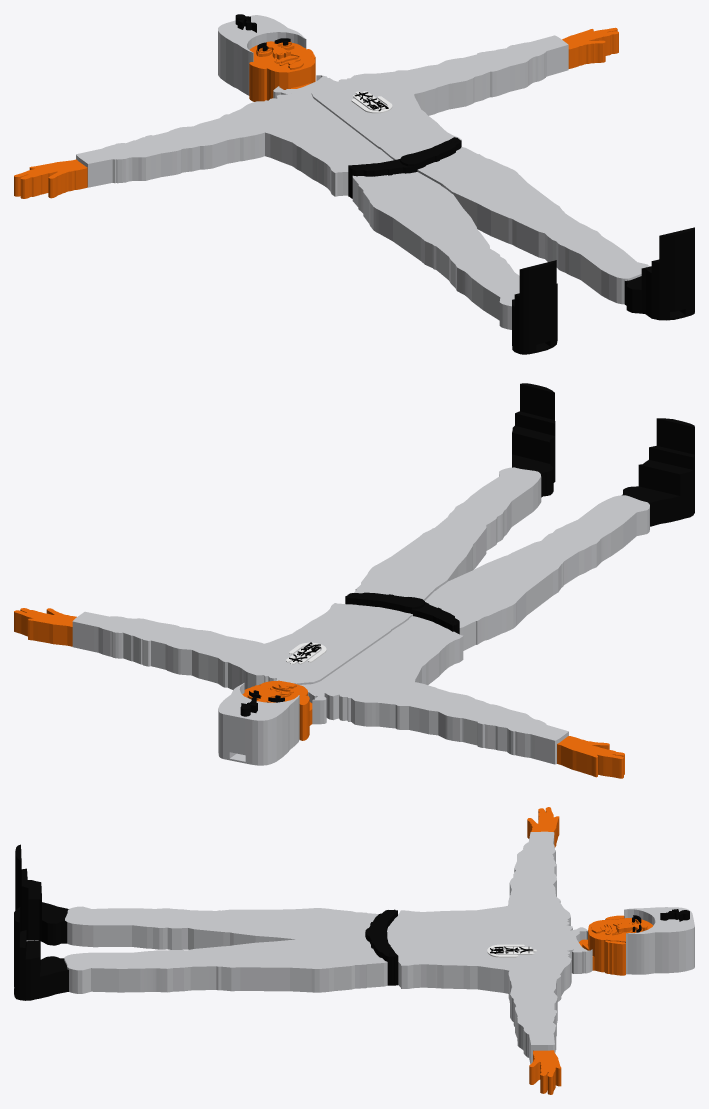
File: Reiki_Master.gltf
3 renders of one model, top to bottom at view 1: azimuth 30°, elevation 25°; view 2: azimuth 150°, elevation 25°; view 3: azimuth 270°, elevation 25°, orthographic. The views are drawn at different scales.
Parts seen in each view (by area): view 1: path2.003, path340.010; view 2: path2.003, path340.010; view 3: path2.003, path340.010.
Part boxes in pixels (bbox=[...]): path2.003: bbox=[14, 14, 694, 354]; path340.010: bbox=[351, 91, 392, 113]; path2.003: bbox=[14, 383, 694, 778]; path340.010: bbox=[286, 642, 326, 664]; path2.003: bbox=[14, 807, 694, 1094]; path340.010: bbox=[487, 944, 536, 957].
Size of the model in its own units: 3.8 by 0.5086 by 4.05.
